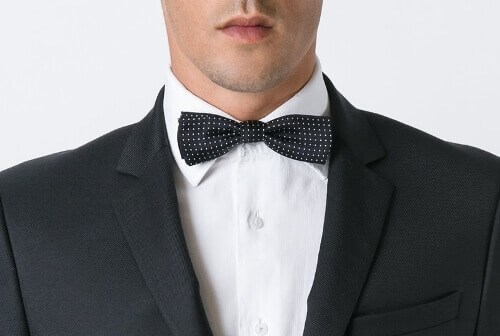bow: (174, 105, 337, 174)
